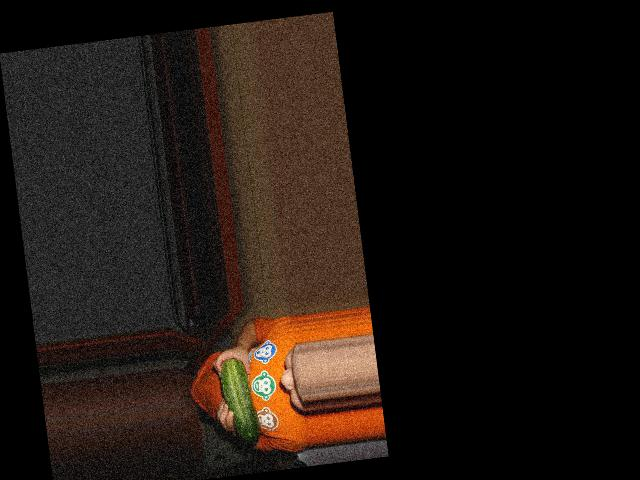cucumber: (218, 355, 261, 447)
